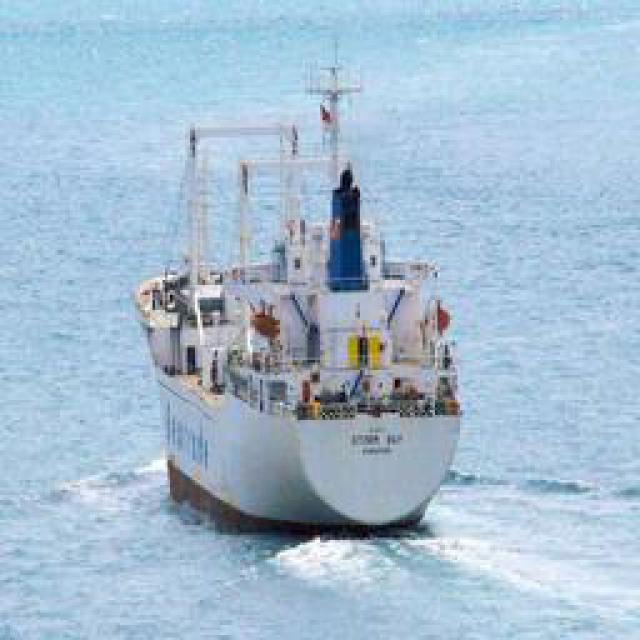Ship: (123, 70, 471, 540)
